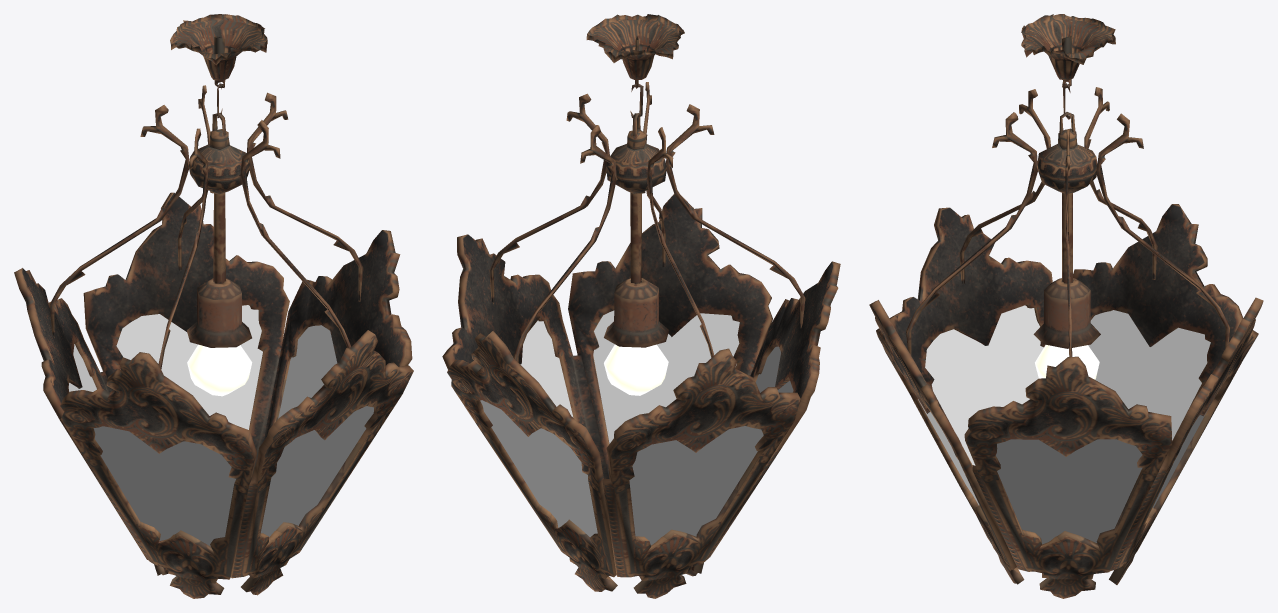
The model's file is lantern_chandelier_01_1k_LOD1.fbx.
3 views of the same model, side by side, from view 1: azimuth 30°, elevation 25°; view 2: azimuth 150°, elevation 25°; view 3: azimuth 270°, elevation 25° (orthographic).
Parts seen in each view (by area): view 1: lantern_chandelier_01; view 2: lantern_chandelier_01; view 3: lantern_chandelier_01.
Boxes of the visible parts, x1,y1,x2,y2 form: lantern_chandelier_01: [14, 14, 413, 598]; lantern_chandelier_01: [442, 14, 840, 598]; lantern_chandelier_01: [869, 14, 1263, 598].
Bounding box in the file's own units: 57.99 × 87.87 × 57.42.
